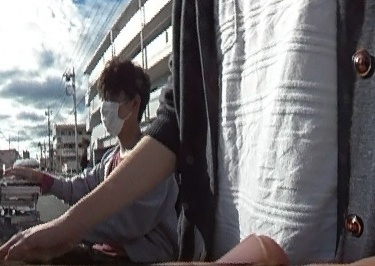person: (11, 59, 178, 266)
